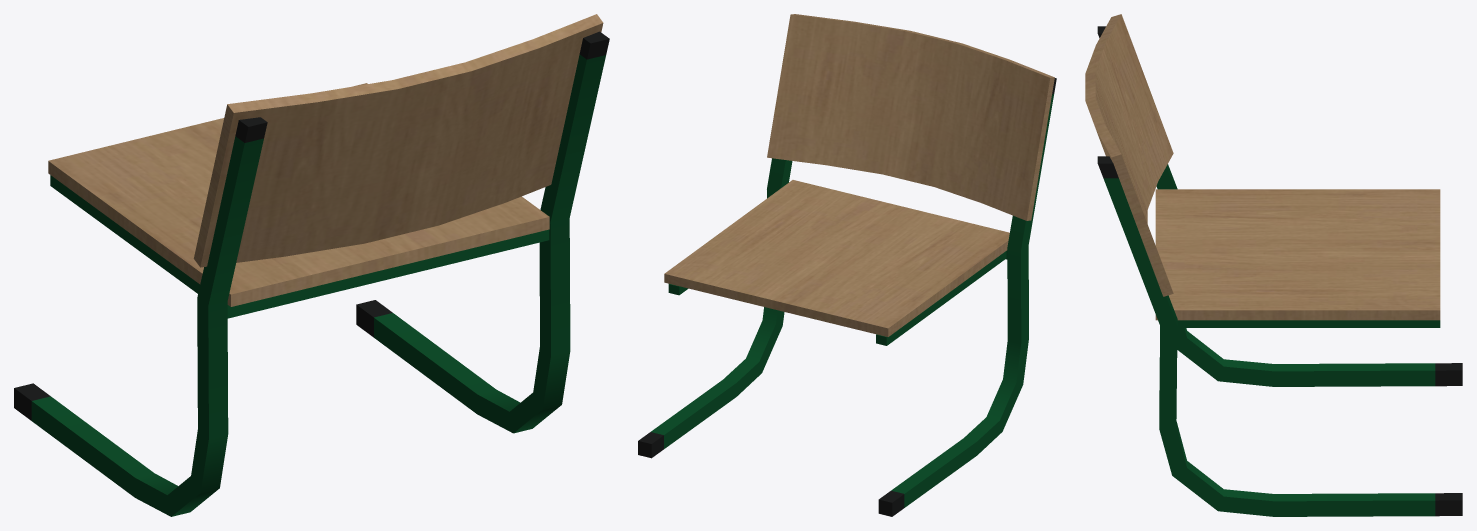
Rendered from chair2.FBX.
3 views of the same model, side by side, from view 1: azimuth 30°, elevation 25°; view 2: azimuth 150°, elevation 25°; view 3: azimuth 270°, elevation 25° (orthographic). The views are drawn at different scales.
Parts seen in each view (by area): view 1: chair2; view 2: chair2; view 3: chair2.
Part boxes in pixels (left/top/right/bottom): chair2: left=14, top=14, right=609, bottom=516; chair2: left=638, top=14, right=1056, bottom=516; chair2: left=1085, top=14, right=1462, bottom=516.
Size of the model in its own units: 3.84 by 4.66 by 4.36.
